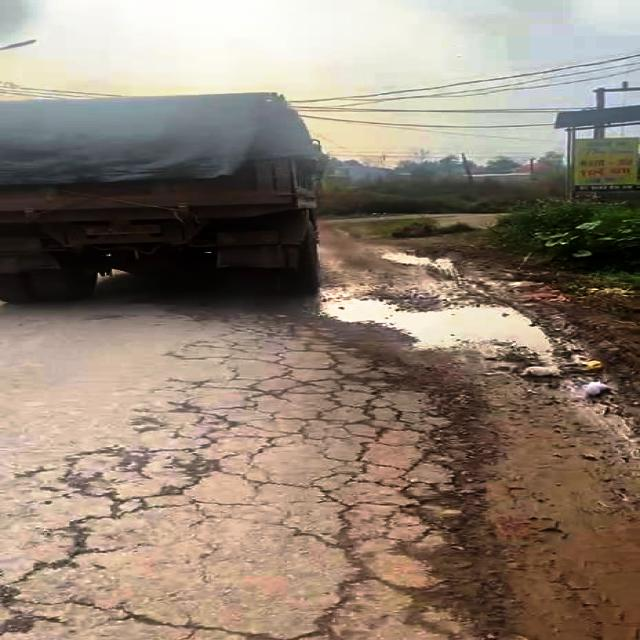pothole: (317, 295, 559, 360)
